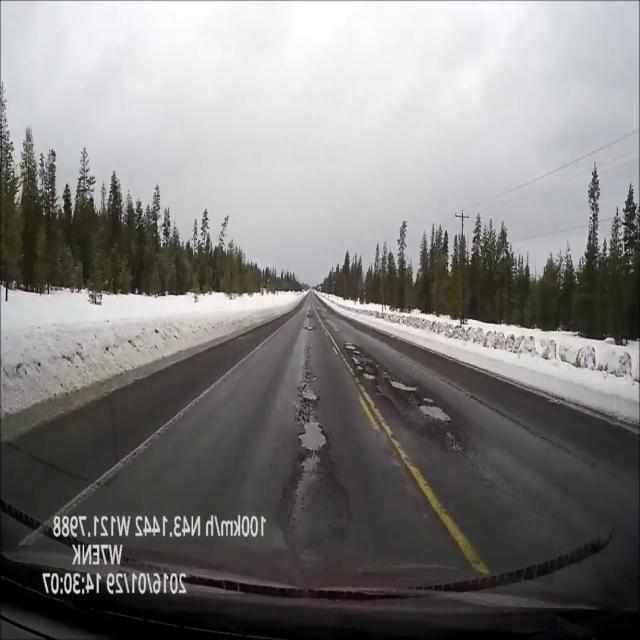pothole: (281, 455, 343, 542), (298, 423, 328, 450), (419, 403, 453, 426), (389, 377, 419, 392), (299, 386, 318, 402), (352, 356, 365, 371), (344, 343, 360, 354), (363, 373, 376, 381), (334, 327, 342, 332), (305, 327, 312, 331), (308, 314, 313, 318)
